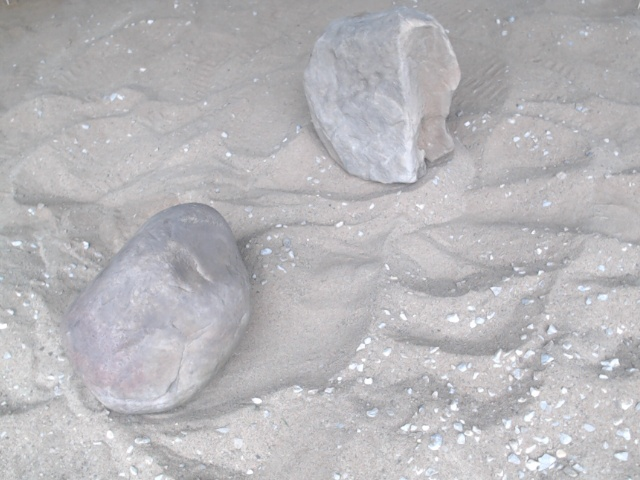rock: (56, 198, 259, 422), (297, 3, 466, 192)
